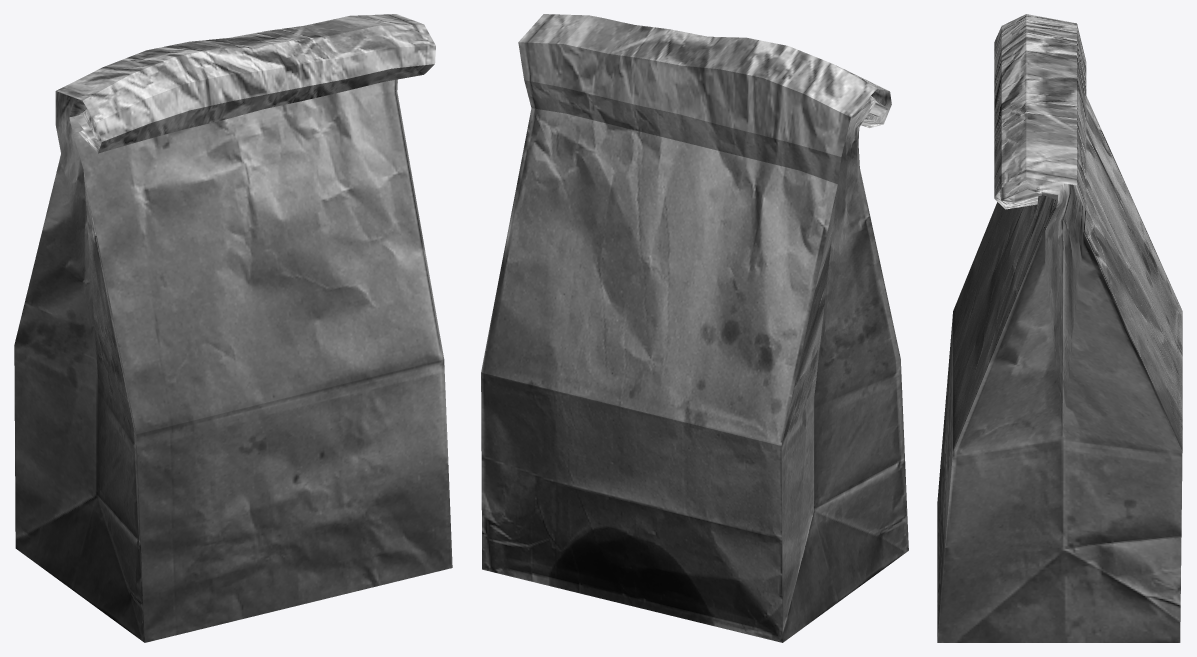
The model's file is fast_food_bag_3.fbx.
3 renders of one model, left to right at view 1: azimuth 30°, elevation 25°; view 2: azimuth 150°, elevation 25°; view 3: azimuth 270°, elevation 25°, orthographic. The views are drawn at different scales.
Visible parts, largest first — view 1: fast_food_bag_3; view 2: fast_food_bag_3; view 3: fast_food_bag_3.
Part boxes in pixels (bbox=[...]): fast_food_bag_3: bbox=[14, 14, 452, 642]; fast_food_bag_3: bbox=[481, 14, 908, 642]; fast_food_bag_3: bbox=[937, 14, 1182, 642].
Size of the model in its own units: 29.53 by 43.96 by 19.51.
